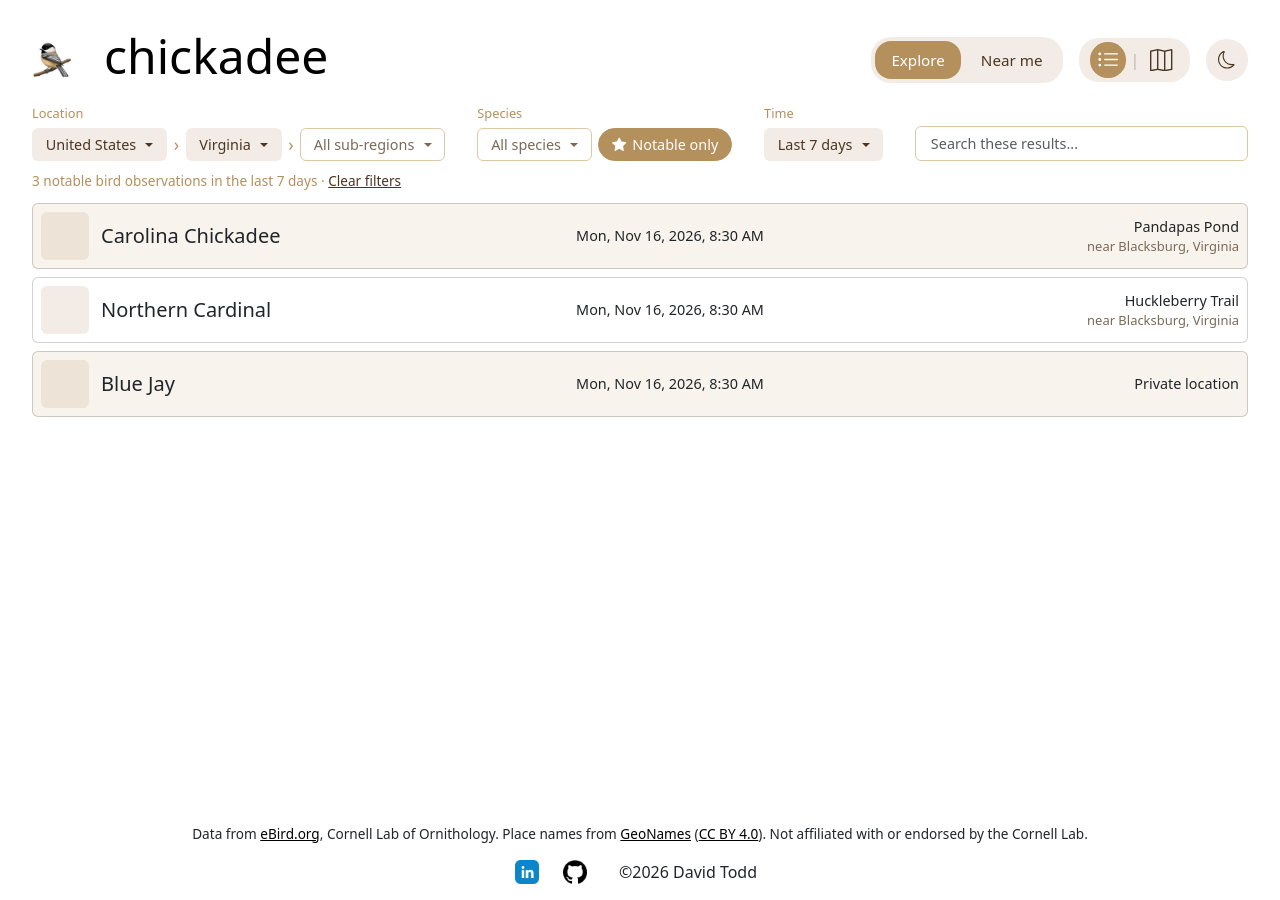
Test: Explore page › opens a shared link with its filters, and "Clear filters" resets them
This screenshot has width=1280, height=900.
Expected: the button "Virginia" is shown, left=186, top=128, right=282, bottom=161
Expected: the element with class "observation-count" shows "3 notable bird observations in the last 7 days", left=32, top=171, right=401, bottom=191
Click the button "Clear filters". click: (365, 181)
box: left=328, top=171, right=401, bottom=191
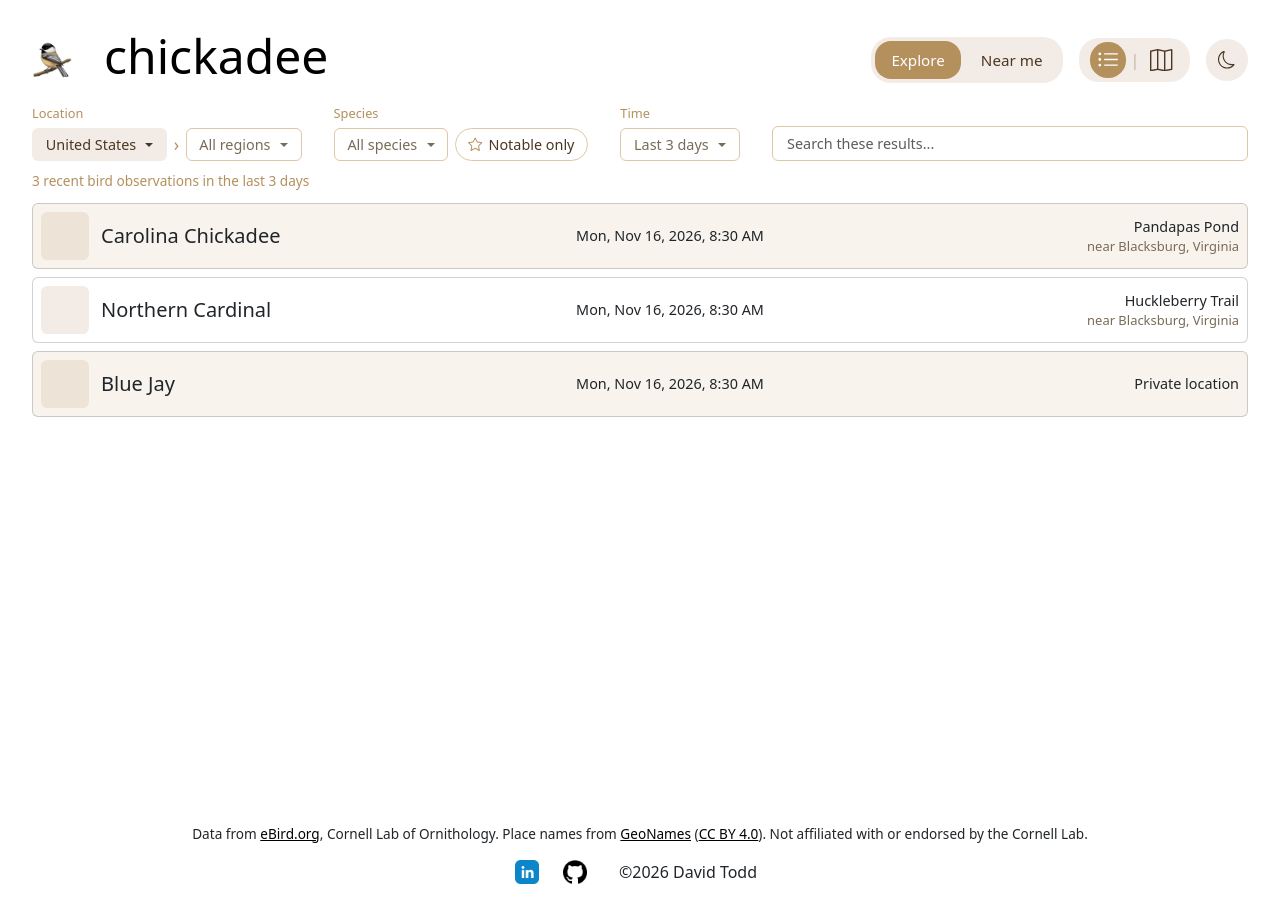
Expected: the button "Clear filters" is gone
